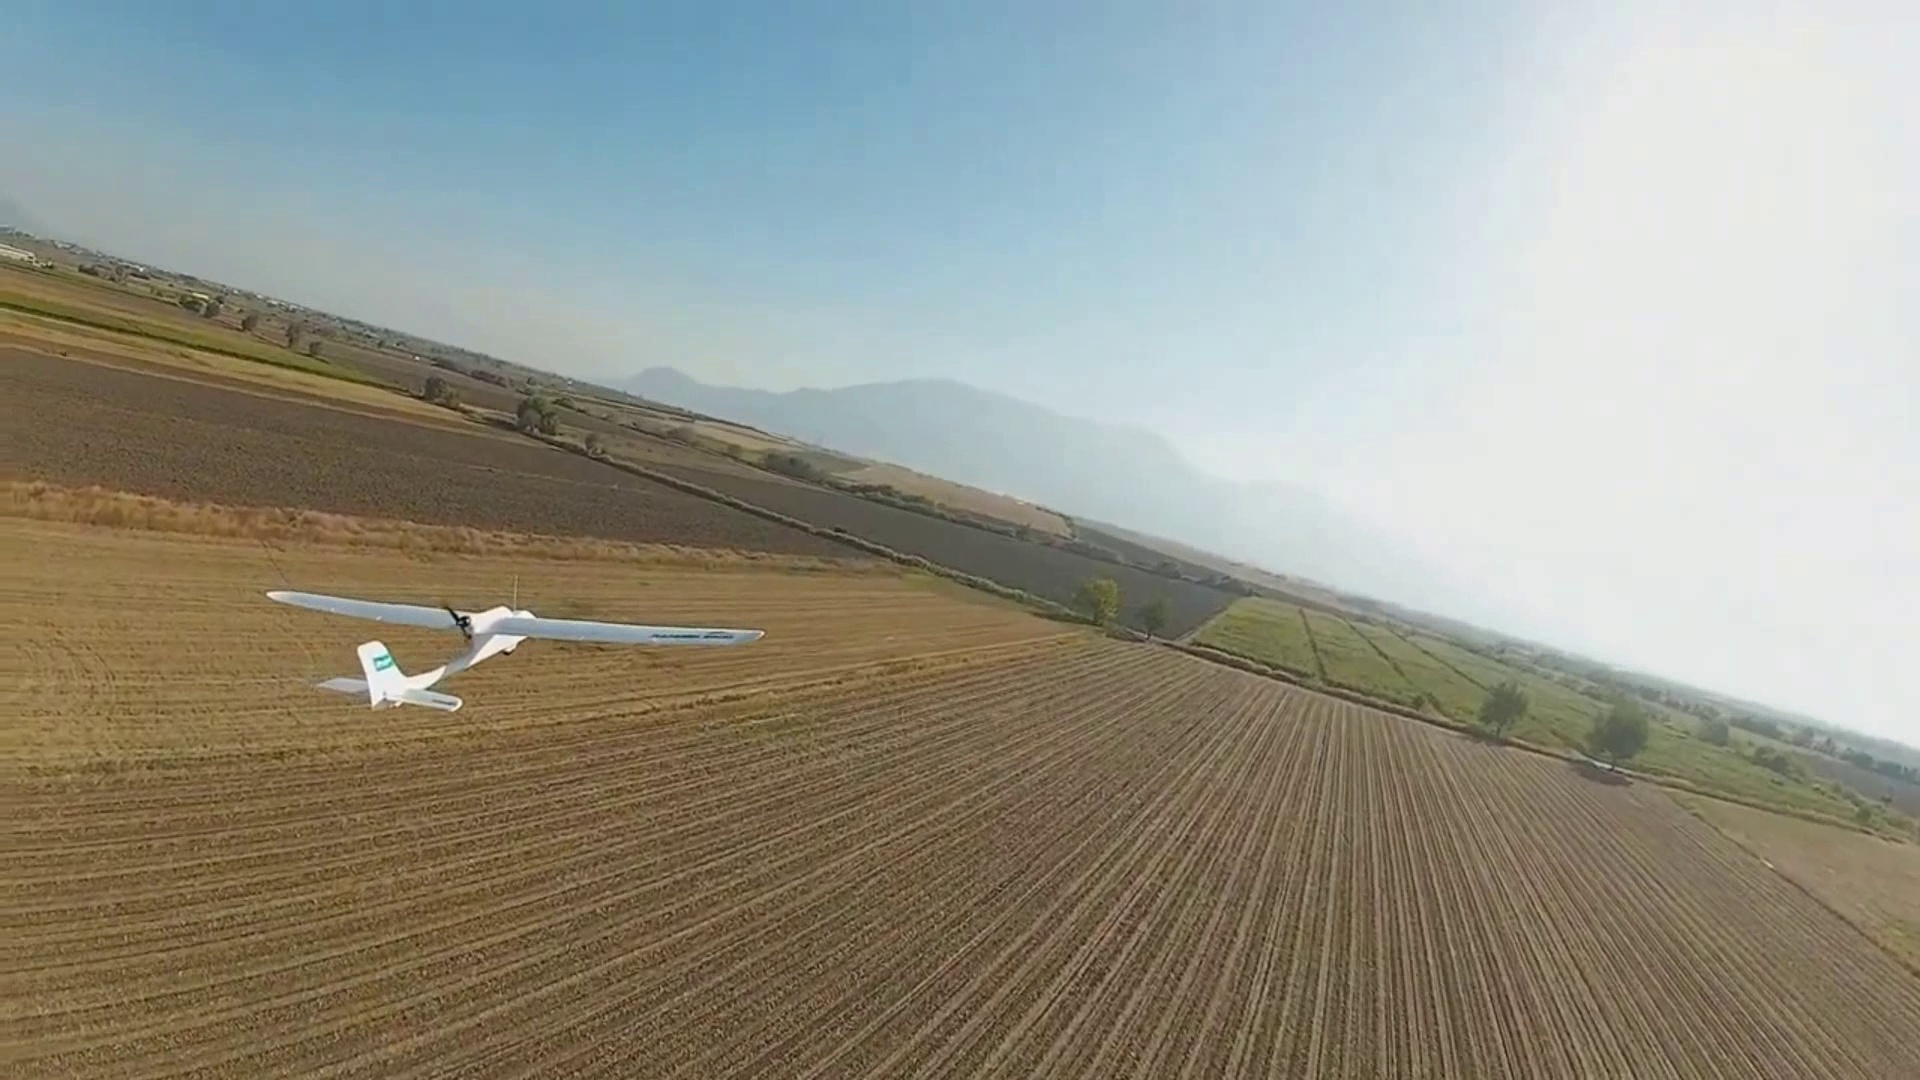airplane: (261, 588, 764, 711)
